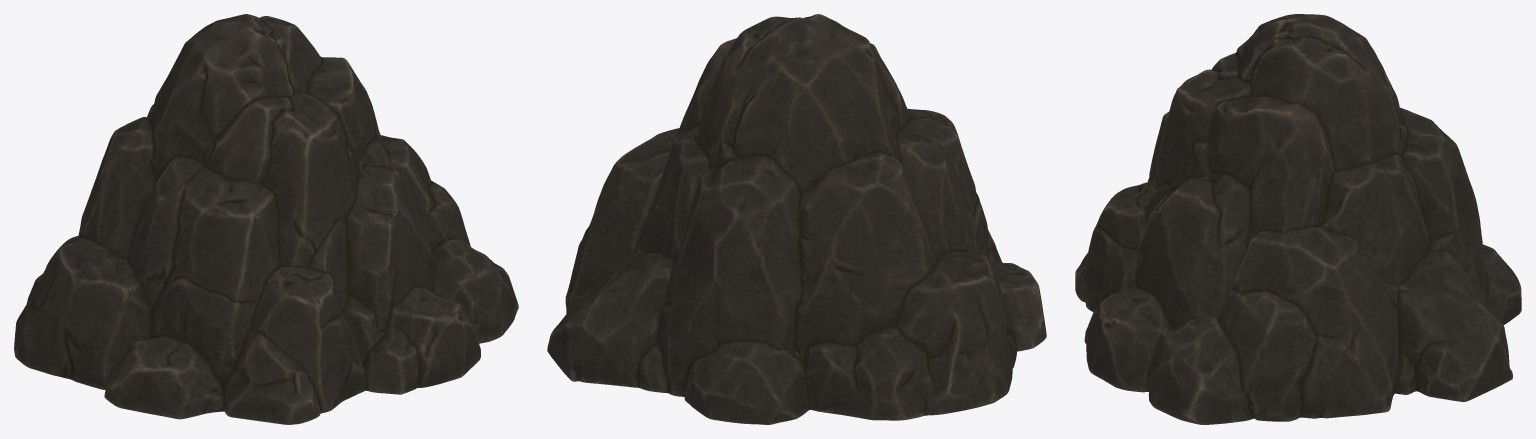
The picture shows the model from 3 angles, left to right: view 1: azimuth 30°, elevation 25°; view 2: azimuth 150°, elevation 25°; view 3: azimuth 270°, elevation 25°; orthographic projection. The views are drawn at different scales.
Visible parts, largest first — view 1: world_0; view 2: world_0; view 3: world_0.
Part boxes in pixels (box(x1,y1,x2,y2)): world_0: box(14, 14, 518, 424); world_0: box(547, 14, 1046, 424); world_0: box(1075, 14, 1521, 424).
Bounding box in the file's own units: 1 × 0.6806 × 0.9152.
1 material, 1 textured.
